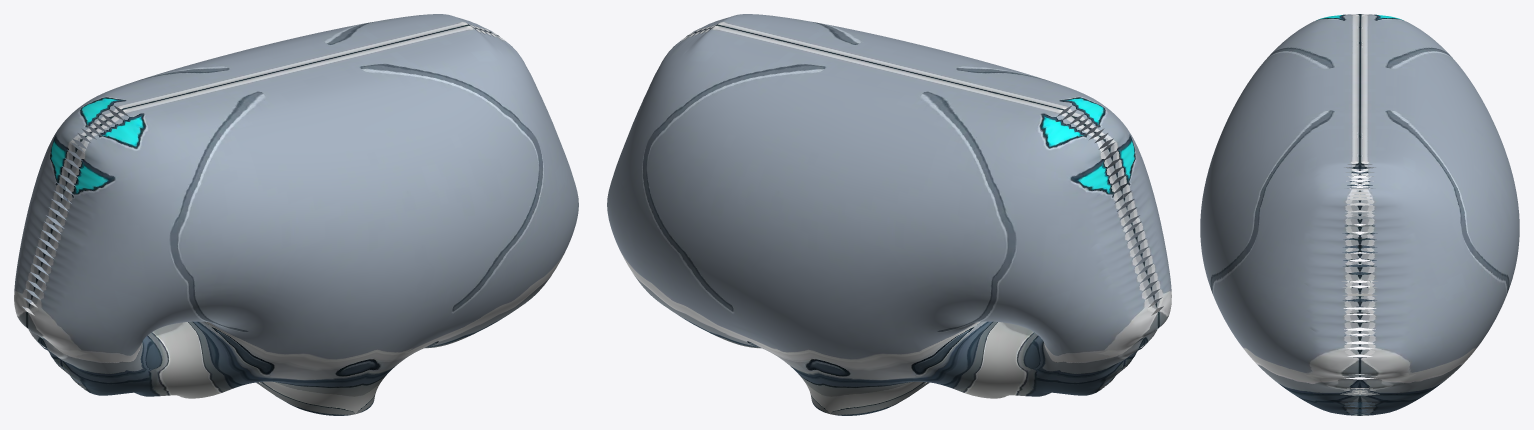
File: wing_platform.glb
The picture shows the model from 3 angles, left to right: view 1: azimuth 30°, elevation 25°; view 2: azimuth 150°, elevation 25°; view 3: azimuth 270°, elevation 25°; orthographic projection. The views are drawn at different scales.
Visible parts, largest first — view 1: wing_platform; view 2: wing_platform; view 3: wing_platform.
Part boxes in pixels (x1,y1,x2,y2): wing_platform: (14, 14, 578, 415); wing_platform: (607, 14, 1171, 415); wing_platform: (1200, 14, 1519, 415).
Size of the model in its own units: 0.9889 by 0.5353 by 0.5829.
1 material, 1 textured.
